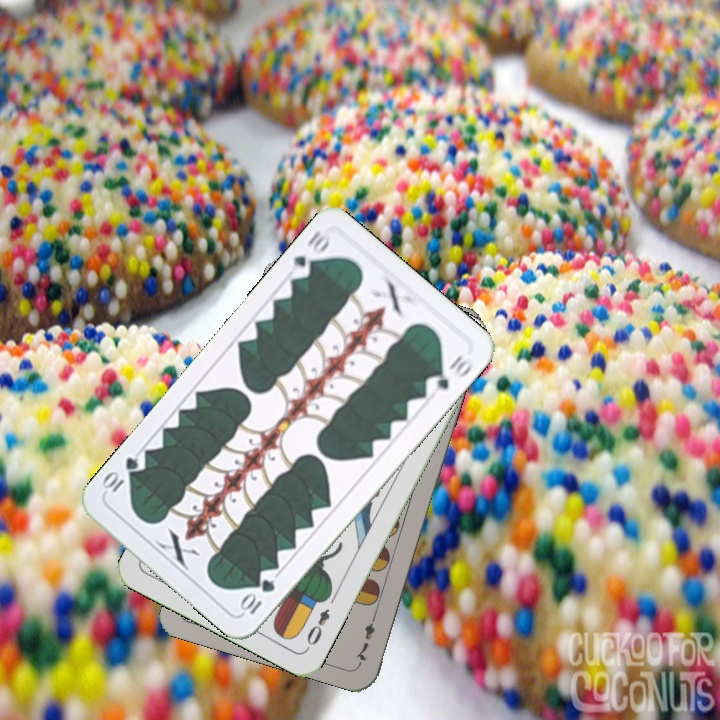E7: (351, 609, 380, 667)
EO: (302, 604, 333, 652)
G10: (285, 226, 333, 282), (236, 575, 278, 617)
